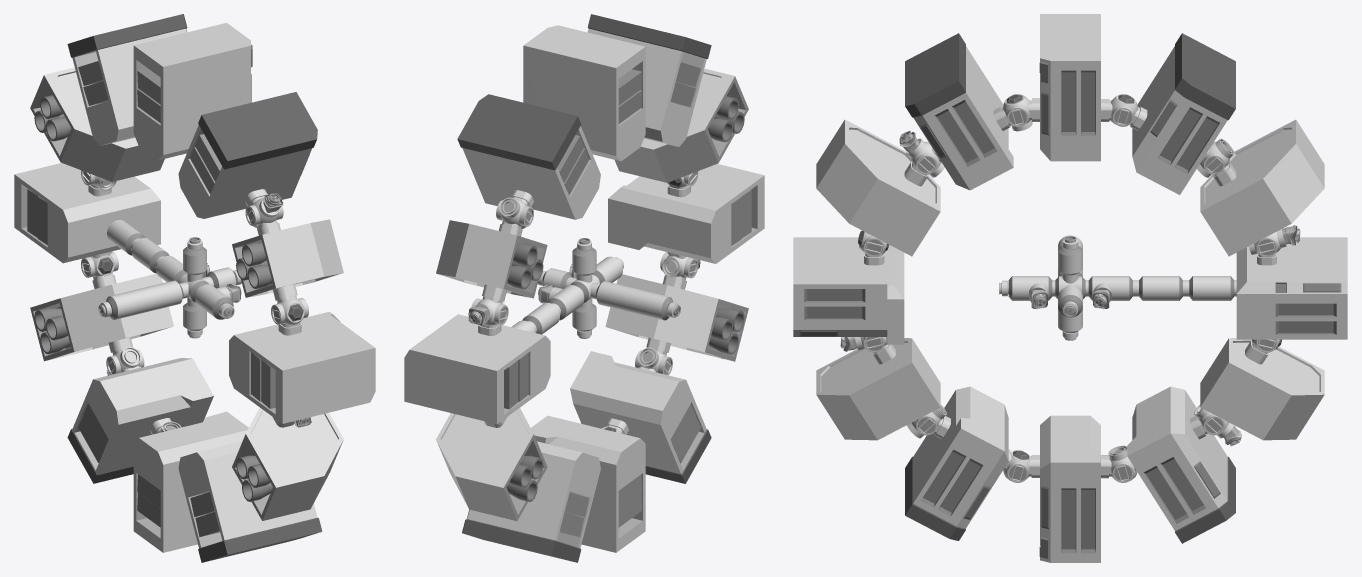
File: endurance.glb
3 renders of one model, left to right at view 1: azimuth 30°, elevation 25°; view 2: azimuth 150°, elevation 25°; view 3: azimuth 270°, elevation 25°, orthographic. The views are drawn at different scales.
Parts seen in each view (by area): view 1: EnduranceShip, EnduranceShip.002, EnduranceShip.001, Connector.008, Connector.007, Connector.002, Connector.001; view 2: EnduranceShip, EnduranceShip.002, EnduranceShip.001, Connector.0011, Connector, Connector.006, Connector.005; view 3: EnduranceShip, EnduranceShip.002, EnduranceShip.001, Connector.008, Connector, Connector.002, Connector.0011, Connector.009, Connector.003, Connector.0010, Connector.004.
Boxes of the visible parts, x1,y1,x2,y2 form: EnduranceShip: (14, 14, 375, 562); EnduranceShip.002: (34, 95, 272, 501); EnduranceShip.001: (88, 184, 301, 434); Connector.008: (245, 193, 283, 228); Connector.007: (271, 298, 308, 325); Connector.002: (106, 347, 144, 375); Connector.001: (81, 251, 118, 277); EnduranceShip: (404, 14, 764, 562); EnduranceShip.002: (506, 96, 744, 501); EnduranceShip.001: (478, 184, 690, 434); Connector.0011: (496, 197, 533, 229); Connector: (468, 298, 508, 325); Connector.006: (660, 252, 700, 278); Connector.005: (635, 347, 672, 375); EnduranceShip: (793, 14, 1347, 562); EnduranceShip.002: (1001, 235, 1236, 338); EnduranceShip.001: (864, 98, 1276, 478); Connector.008: (899, 130, 944, 177); Connector: (1248, 225, 1299, 257); Connector.002: (1194, 404, 1241, 446); Connector.0011: (1197, 138, 1234, 177); Connector.009: (1003, 94, 1032, 131); Connector.003: (1108, 445, 1137, 482); Connector.0010: (1111, 94, 1137, 126); Connector.004: (1003, 450, 1031, 482).
Bounding box in the file's own units: 17.72 × 54.6 × 54.6.
Materials: 2 (2 with a texture image).
